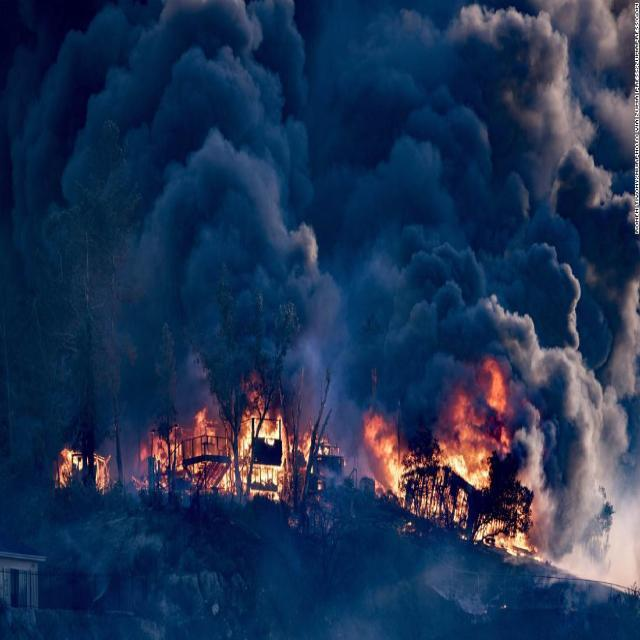Fire: (361, 358, 529, 559), (130, 372, 343, 528), (53, 438, 113, 503)
Smoke: (1, 0, 639, 347), (535, 367, 634, 564)
